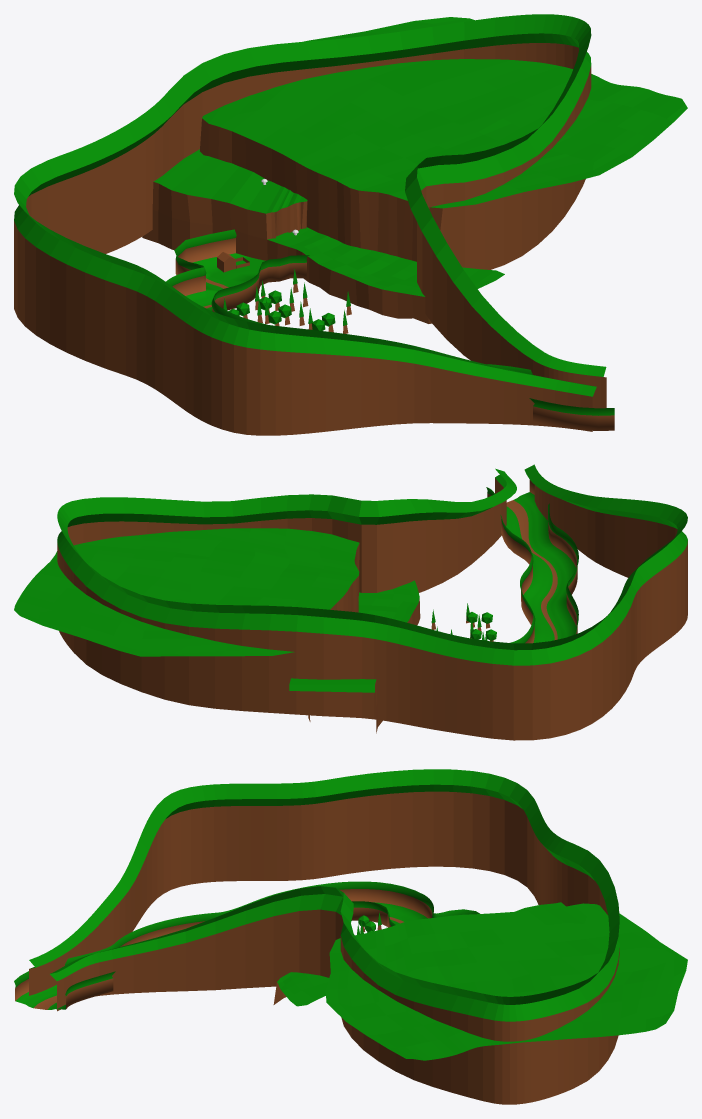
The model's file is map.fbx.
3 renders of one model, top to bottom at view 1: azimuth 30°, elevation 25°; view 2: azimuth 150°, elevation 25°; view 3: azimuth 270°, elevation 25°, orthographic. The views are drawn at different scales.
Visible parts, largest first — view 1: BézierCurve.002, BézierCurve.003, Cube.001; view 2: BézierCurve.002, BézierCurve.003, Cube.001; view 3: BézierCurve.002, BézierCurve.003.
Part boxes in pixels (bbox=[...]): BézierCurve.002: bbox=[14, 14, 687, 435]; BézierCurve.003: bbox=[166, 229, 614, 430]; Cube.001: bbox=[223, 269, 351, 333]; BézierCurve.002: bbox=[14, 464, 687, 740]; BézierCurve.003: bbox=[486, 479, 578, 643]; Cube.001: bbox=[431, 603, 496, 641]; BézierCurve.002: bbox=[29, 769, 687, 1104]; BézierCurve.003: bbox=[14, 881, 479, 1009].
Bounding box in the file's own units: 67240 × 72068 × 14444.
